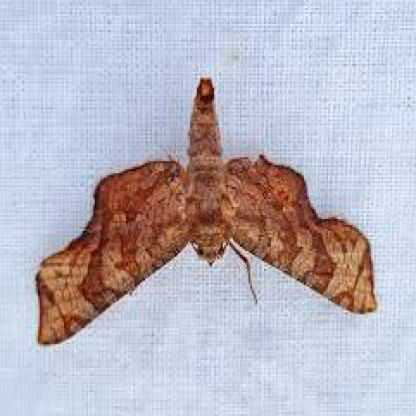Leaf Webber: (32, 73, 383, 341)
